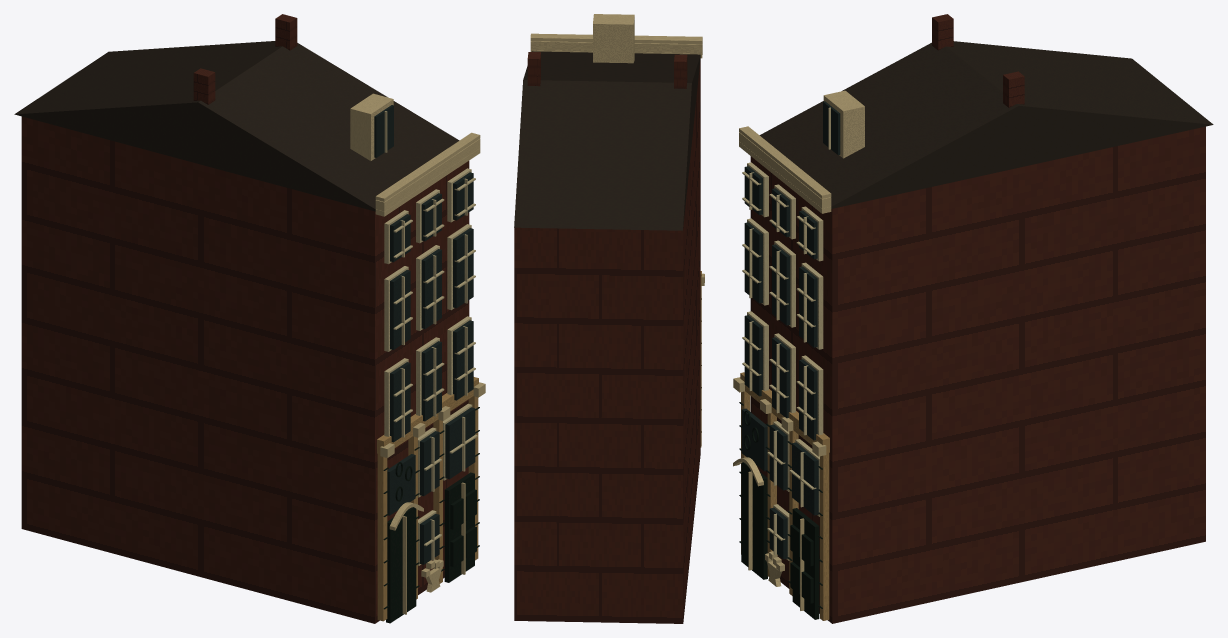
3 renders of one model, left to right at view 1: azimuth 30°, elevation 25°; view 2: azimuth 150°, elevation 25°; view 3: azimuth 270°, elevation 25°, orthographic. The views are drawn at different scales.
Visible parts, largest first — view 1: koopmanshuis-nieuwehaven87-0, koopmanshuis-nieuwehaven87-3, koopmanshuis-nieuwehaven87-5, koopmanshuis-nieuwehaven87-4, koopmanshuis-nieuwehaven87-1, koopmanshuis-nieuwehaven87-2, koopmanshuis-nieuwehaven87-6; view 2: koopmanshuis-nieuwehaven87-0, koopmanshuis-nieuwehaven87-3, koopmanshuis-nieuwehaven87-1, koopmanshuis-nieuwehaven87-6; view 3: koopmanshuis-nieuwehaven87-0, koopmanshuis-nieuwehaven87-3, koopmanshuis-nieuwehaven87-5, koopmanshuis-nieuwehaven87-4, koopmanshuis-nieuwehaven87-1, koopmanshuis-nieuwehaven87-2, koopmanshuis-nieuwehaven87-6.
Boxes of the visible parts, x1,y1,x2,y2 form: koopmanshuis-nieuwehaven87-0: [21, 14, 469, 623]; koopmanshuis-nieuwehaven87-3: [14, 41, 459, 211]; koopmanshuis-nieuwehaven87-5: [374, 105, 475, 564]; koopmanshuis-nieuwehaven87-4: [384, 111, 477, 565]; koopmanshuis-nieuwehaven87-1: [350, 93, 485, 614]; koopmanshuis-nieuwehaven87-2: [383, 407, 479, 623]; koopmanshuis-nieuwehaven87-6: [377, 377, 478, 621]; koopmanshuis-nieuwehaven87-0: [514, 52, 700, 623]; koopmanshuis-nieuwehaven87-3: [514, 51, 700, 230]; koopmanshuis-nieuwehaven87-1: [530, 14, 704, 285]; koopmanshuis-nieuwehaven87-6: [700, 271, 701, 447]; koopmanshuis-nieuwehaven87-0: [750, 14, 1205, 623]; koopmanshuis-nieuwehaven87-3: [759, 41, 1213, 208]; koopmanshuis-nieuwehaven87-5: [741, 101, 840, 559]; koopmanshuis-nieuwehaven87-4: [742, 107, 830, 560]; koopmanshuis-nieuwehaven87-1: [733, 90, 864, 610]; koopmanshuis-nieuwehaven87-2: [739, 402, 822, 619]; koopmanshuis-nieuwehaven87-6: [740, 372, 829, 620].
Size of the model in its own units: 10.45 by 15.8 by 13.69.
7 materials, 7 textured.
